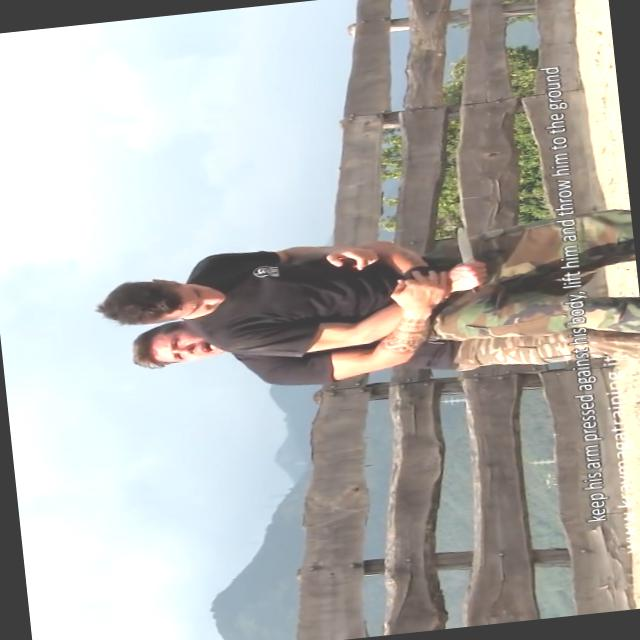knife: (446, 220, 488, 296)
